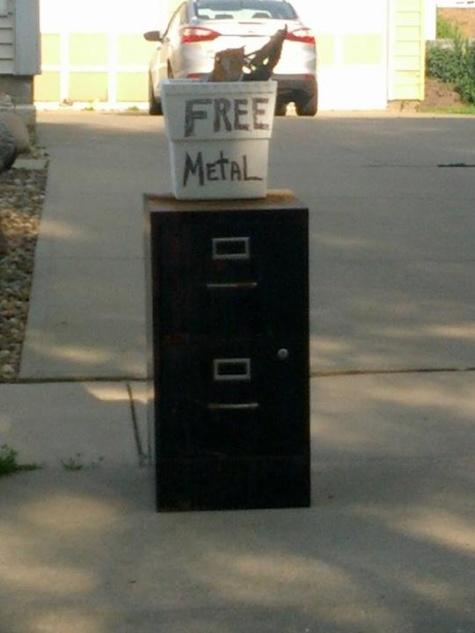Filing Cabinet: (149, 206, 311, 513)
